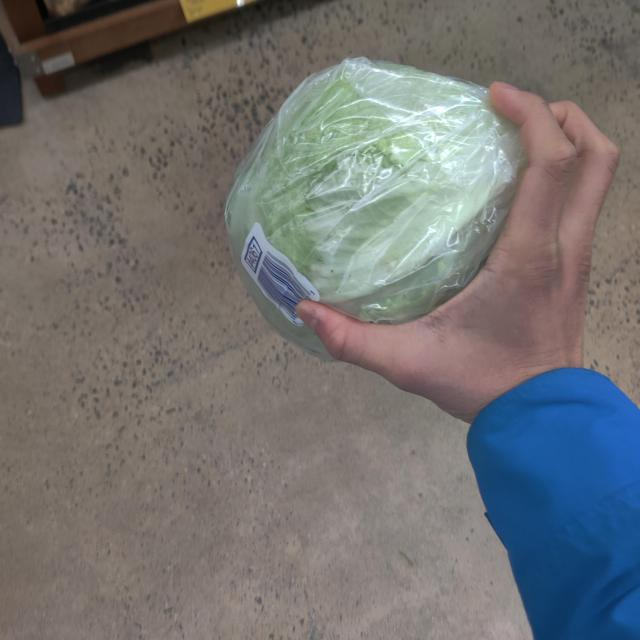Lettuce: (227, 60, 527, 367)
